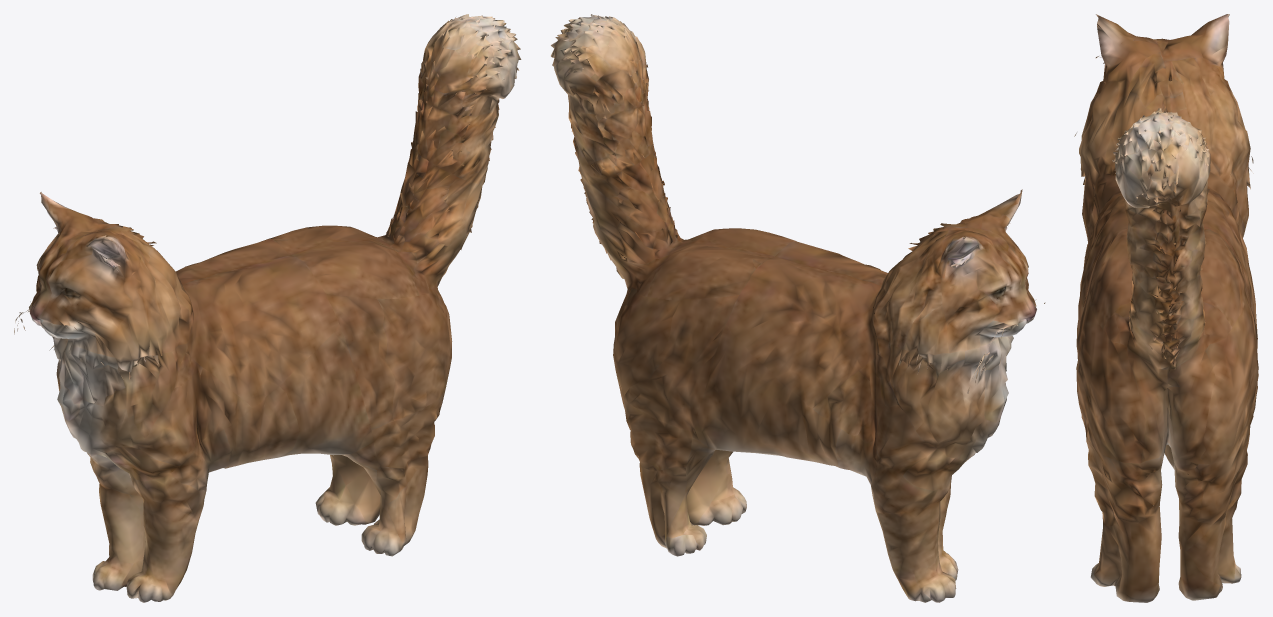
The model's file is COSMICGREG-lo.glb.
The picture shows the model from 3 angles, left to right: view 1: azimuth 30°, elevation 25°; view 2: azimuth 150°, elevation 25°; view 3: azimuth 270°, elevation 25°; orthographic projection. The views are drawn at different scales.
Visible parts, largest first — view 1: tripo_node_33d2e18d-96e4-4624-99b2-48c88b13b226; view 2: tripo_node_33d2e18d-96e4-4624-99b2-48c88b13b226; view 3: tripo_node_33d2e18d-96e4-4624-99b2-48c88b13b226.
Part boxes in pixels (x1=…): tripo_node_33d2e18d-96e4-4624-99b2-48c88b13b226: x1=14, y1=14, x2=521, y2=602; tripo_node_33d2e18d-96e4-4624-99b2-48c88b13b226: x1=551, y1=14, x2=1045, y2=602; tripo_node_33d2e18d-96e4-4624-99b2-48c88b13b226: x1=1074, y1=14, x2=1258, y2=602.
Size of the model in its own units: 1.02 by 0.9985 by 0.3147.
Materials: 1 (1 with a texture image).
